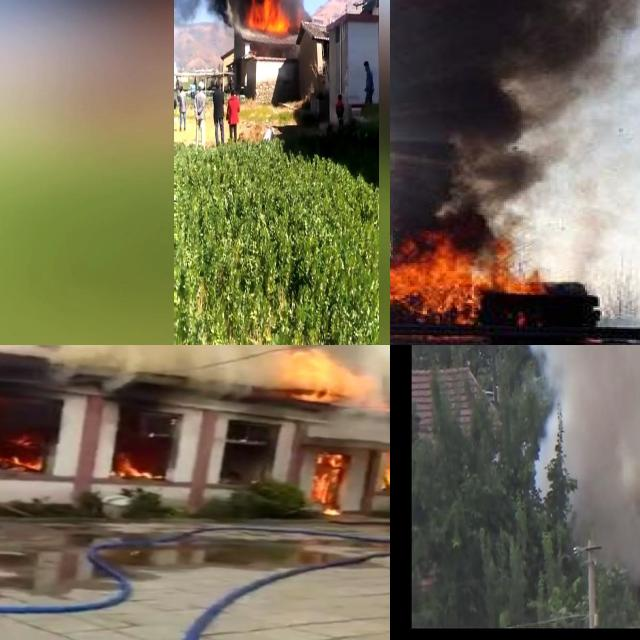fire: (390, 226, 544, 325), (276, 347, 376, 403), (310, 452, 347, 511), (0, 430, 46, 469), (245, 0, 293, 36), (113, 450, 161, 479), (377, 448, 390, 490)
smoke: (390, 0, 595, 231), (543, 345, 640, 518)
